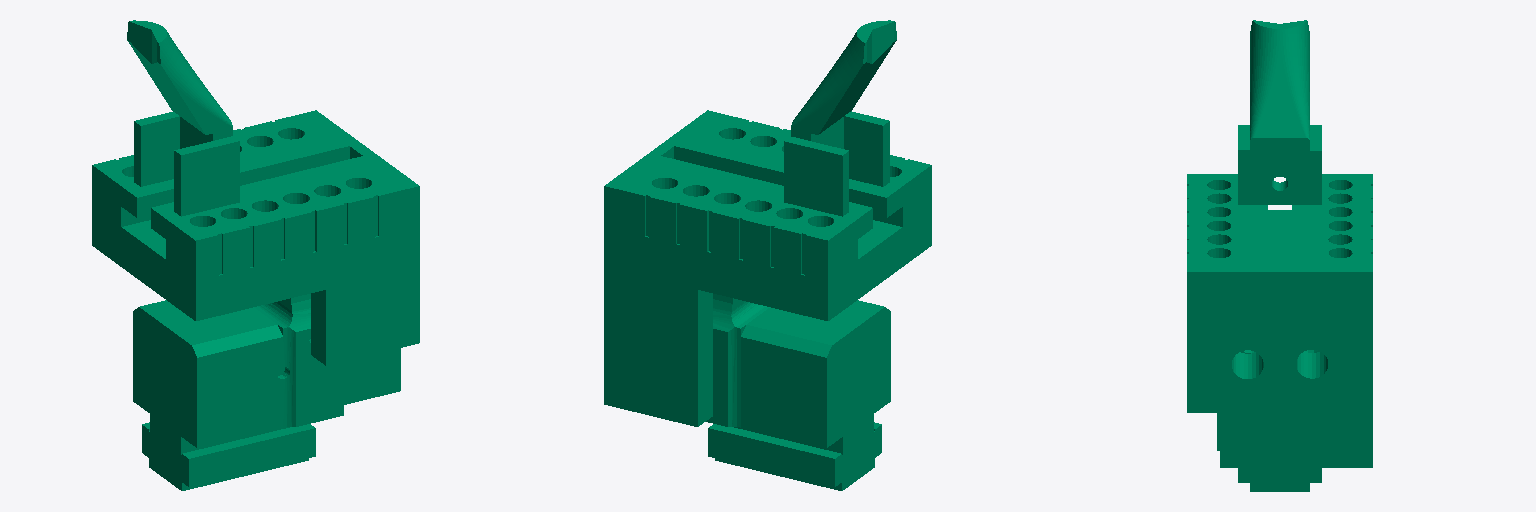
URDF robot description (motoman_sia20d):
<?xml version="1.0" encoding="UTF-8"?>
<!-- =================================================================================== -->
<!-- |    This document was autogenerated by xacro from motoman_only.xacro             | -->
<!-- |    EDITING THIS FILE BY HAND IS NOT RECOMMENDED                                 | -->
<!-- =================================================================================== -->
<robot xmlns:xacro="http://ros.org/wiki/xacro" name="motoman_sia20d">
   <!-- link list -->
   <link name="motoman_base_link">
      <inertial>
         <mass value="150" />
         <inertia ixx="1" ixy="0.0" ixz="0.0" iyy="1" iyz="0.0" izz="1" />
      </inertial>
      <visual>
         <geometry>
            <mesh filename="model://motoman_sia20d_support/meshes/sia20d/visual/MOTOMAN_BASE.stl" />
         </geometry>
         <material name="blue">
            <color rgba="0 0 1 1" />
         </material>
      </visual>
      <collision>
         <geometry>
            <mesh filename="model://motoman_sia20d_support/meshes/sia20d/collision/MOTOMAN_BASE.stl" />
         </geometry>
         <material name="yellow">
            <color rgba="0 1 1 1" />
         </material>
      </collision>
   </link>
   <link name="motoman_link_s">
      <inertial>
         <mass value="34.5" />
         <inertia ixx="0.502079701" ixy="0.0" ixz="0.0" iyy="0.502079701" iyz="0.0" izz="0.12956896" />
      </inertial>
      <visual>
         <origin rpy="0 0 3.1416" xyz="0 0 0" />
         <geometry>
            <mesh filename="model://motoman_sia20d_support/meshes/sia20d/visual/MOTOMAN_AXIS_S.stl" />
         </geometry>
         <material name="silver">
            <color rgba="0.8 0.8 0.8 1" />
         </material>
      </visual>
      <collision>
         <origin rpy="0 0 3.1416" xyz="0 0 0" />
         <geometry>
            <mesh filename="model://motoman_sia20d_support/meshes/sia20d/collision/MOTOMAN_AXIS_S.stl" />
         </geometry>
         <material name="yellow" />
      </collision>
   </link>
   <link name="motoman_link_l">
      <inertial>
         <mass value="30.6" />
         <inertia ixx="0.310135823" ixy="0.0" ixz="0.0" iyy="0.310135823" iyz="0.0" izz="0.12889481" />
      </inertial>
      <visual>
         <origin rpy="1.57 3.1416 3.1416" xyz="0 0 0" />
         <geometry>
            <mesh filename="model://motoman_sia20d_support/meshes/sia20d/visual/MOTOMAN_AXIS_L.stl" />
         </geometry>
         <material name="blue" />
      </visual>
      <collision>
         <origin rpy="1.57 3.1416 3.1416" xyz="0 0 0" />
         <geometry>
            <mesh filename="model://motoman_sia20d_support/meshes/sia20d/collision/MOTOMAN_AXIS_L.stl" />
         </geometry>
         <material name="yellow" />
      </collision>
   </link>
   <link name="motoman_link_e">
      <inertial>
         <mass value="18.54" />
         <inertia ixx="0.147277445" ixy="0.0" ixz="0.0" iyy="0.147277445" iyz="0.0" izz="0.05217123" />
      </inertial>
      <visual>
         <origin rpy="0 0 0" xyz="0 0 0" />
         <geometry>
            <mesh filename="model://motoman_sia20d_support/meshes/sia20d/visual/MOTOMAN_AXIS_E.stl" />
         </geometry>
         <material name="silver" />
      </visual>
      <collision>
         <origin rpy="0 0 0" xyz="0 0 0" />
         <geometry>
            <mesh filename="model://motoman_sia20d_support/meshes/sia20d/collision/MOTOMAN_AXIS_E.stl" />
         </geometry>
         <material name="yellow" />
      </collision>
   </link>
   <link name="motoman_link_u">
      <inertial>
         <mass value="12.9" />
         <inertia ixx="0.086548013" ixy="0.0" ixz="0.0" iyy="0.086548013" iyz="0.0" izz="0.02733095" />
      </inertial>
      <visual>
         <origin rpy="1.57 -3.1415 3.1416" xyz="0 0 0" />
         <geometry>
            <mesh filename="model://motoman_sia20d_support/meshes/sia20d/visual/MOTOMAN_AXIS_U.stl" />
         </geometry>
         <material name="blue" />
      </visual>
      <collision>
         <origin rpy="1.57 -3.1415 3.1416" xyz="0 0 0" />
         <geometry>
            <mesh filename="model://motoman_sia20d_support/meshes/sia20d/collision/MOTOMAN_AXIS_U.stl" />
         </geometry>
         <material name="yellow" />
      </collision>
   </link>
   <link name="motoman_link_r">
      <inertial>
         <mass value="7.3" />
         <inertia ixx="0.034967411" ixy="0.0" ixz="0.0" iyy="0.034967411" iyz="0.0" izz="0.01048203" />
      </inertial>
      <visual>
         <origin rpy="0 0 0" xyz="0 0 0" />
         <geometry>
            <mesh filename="model://motoman_sia20d_support/meshes/sia20d/visual/MOTOMAN_AXIS_R.stl" />
         </geometry>
         <material name="silver" />
      </visual>
      <collision>
         <origin rpy="0 0 0" xyz="0 0 0" />
         <geometry>
            <mesh filename="model://motoman_sia20d_support/meshes/sia20d/collision/MOTOMAN_AXIS_R.stl" />
         </geometry>
         <material name="yellow" />
      </collision>
   </link>
   <link name="motoman_link_b">
      <inertial>
         <mass value="6.6" />
         <inertia ixx="0.028669762" ixy="0.0" ixz="0.0" iyy="0.028669762" iyz="0.0" izz="0.0088123" />
      </inertial>
      <visual>
         <origin rpy="-1.57 0 0" xyz="0 0 0" />
         <geometry>
            <mesh filename="model://motoman_sia20d_support/meshes/sia20d/visual/MOTOMAN_AXIS_B.stl" />
         </geometry>
         <material name="blue" />
      </visual>
      <collision>
         <origin rpy="-1.57 0 0" xyz="0 0 0" />
         <geometry>
            <mesh filename="model://motoman_sia20d_support/meshes/sia20d/collision/MOTOMAN_AXIS_B.stl" />
         </geometry>
         <material name="yellow" />
      </collision>
   </link>
   <link name="motoman_link_t">
      <inertial>
         <mass value="9.36" />
         <inertia ixx="0.026345268" ixy="0.0" ixz="0.0" iyy="0.026345268" iyz="0.0" izz="0.03381399" />
         <pose>0 0 0 0 -0 0</pose>
      </inertial>
      <visual>
         <geometry>
            <mesh filename="model://motoman_sia20d_support/meshes/sia20d/visual/MOTOMAN_AXIS_T.stl" />
         </geometry>
         <material name="silver" />
      </visual>
      <collision>
         <geometry>
            <mesh filename="model://motoman_sia20d_support/meshes/sia20d/collision/MOTOMAN_AXIS_T.stl" />
         </geometry>
         <material name="yellow" />
      </collision>
   </link>
   <gazebo reference="motoman_base_link">
      <static>1</static>
      <gravity>0</gravity>
      <material>Gazebo/White</material>
   </gazebo>
   <gazebo reference="motoman_link_s">
      <static>p</static>
      <gravity>0</gravity>
      <kinematic>1</kinematic>
      <material>Gazebo/Blue</material>
   </gazebo>
   <gazebo reference="motoman_link_l">
      <static>0</static>
      <gravity>0</gravity>
      <kinematic>1</kinematic>
      <material>Gazebo/White</material>
   </gazebo>
   <gazebo reference="motoman_link_e">
      <static>0</static>
      <gravity>0</gravity>
      <kinematic>1</kinematic>
      <material>Gazebo/Blue</material>
   </gazebo>
   <gazebo reference="motoman_link_u">
      <static>0</static>
      <gravity>0</gravity>
      <kinematic>1</kinematic>
      <material>Gazebo/White</material>
   </gazebo>
   <gazebo reference="motoman_link_r">
      <static>0</static>
      <gravity>0</gravity>
      <kinematic>1</kinematic>
      <material>Gazebo/Blue</material>
   </gazebo>
   <gazebo reference="motoman_link_b">
      <static>0</static>
      <gravity>0</gravity>
      <kinematic>1</kinematic>
      <material>Gazebo/White</material>
   </gazebo>
   <gazebo reference="motoman_link_t">
      <static>0</static>
      <gravity>0</gravity>
      <kinematic>1</kinematic>
      <material>Gazebo/Blue</material>
   </gazebo>

   <!-- end of link list -->
   <!-- joint list -->
   <joint name="motoman_joint_s" type="revolute">
      <parent link="motoman_base_link" />
      <child link="motoman_link_s" />
      <origin rpy="0 0 0" xyz="0 0 0.41" />
      <axis xyz="0 0 1" />
      <limit effort="100" lower="-3.1416" upper="3.1416" velocity="2.26" />
   </joint>
   <joint name="motoman_joint_l" type="revolute">
      <parent link="motoman_link_s" />
      <child link="motoman_link_l" />
      <origin rpy="0 0 0" xyz="0 0 0" />
      <axis xyz="0 1 0" />
      <limit effort="100" lower="-1.91" upper="1.91" velocity="2.26" />
   </joint>
   <joint name="motoman_joint_e" type="revolute">
      <parent link="motoman_link_l" />
      <child link="motoman_link_e" />
      <origin rpy="0 0 0" xyz="0 0 0.49" />
      <axis xyz="0 0 1" />
      <limit effort="100" lower="-2.96" upper="2.96" velocity="2.96" />
   </joint>
   <joint name="motoman_joint_u" type="revolute">
      <parent link="motoman_link_e" />
      <child link="motoman_link_u" />
      <origin rpy="0 0 0" xyz="0 0 0" />
      <axis xyz="0 -1 0" />
      <limit effort="100" lower="-2.26" upper="2.26" velocity="2.96" />
   </joint>
   <joint name="motoman_joint_r" type="revolute">
      <parent link="motoman_link_u" />
      <child link="motoman_link_r" />
      <origin rpy="0 0 0" xyz="0 0 0.420" />
      <axis xyz="0 0 -1" />
      <limit effort="100" lower="-3.1416" upper="3.1416" velocity="3.48" />
   </joint>
   <joint name="motoman_joint_b" type="revolute">
      <parent link="motoman_link_r" />
      <child link="motoman_link_b" />
      <origin rpy="0 0 0" xyz="0 0 0" />
      <axis xyz="0 -1 0" />
      <limit effort="100" lower="-1.91" upper="1.91" velocity="3.48" />
   </joint>
   <joint name="motoman_joint_t" type="revolute">
      <parent link="motoman_link_b" />
      <child link="motoman_link_t" />
      <origin rpy="0 0 0" xyz="0 0 0.18" />
      <axis xyz="0 0 -1" />
      <limit effort="100" lower="-3.1416" upper="3.1416" velocity="6.97" />
   </joint>
   <!-- end of joint list -->
  
   <link name="world" />
   <!-- Dummy Link -->
   <link name="link0" />
   <joint name="world_joint" type="fixed">
      <parent link="world" />
      <child link="link0" />
      <origin rpy="0 0 0" xyz="0 0 0" />
      <axis xyz="0 0 1" />
   </joint>
   <!-- Second Robot -->
   <joint name="motoman_joint_0" type="fixed">
      <parent link="link0" />
      <child link="motoman_base_link" />
      <origin rpy="0 0 0" xyz="0 0 0" />
   </joint>


  <!-- gripper -->
  <link name="motoman_finger_1">
    <inertial>
      <mass value=".1"/>
      <origin rpy="0 0 0" xyz="0 0 0"/>
      <inertia ixx="0.1" ixy="0" ixz="0" iyy="0.1" iyz="0" izz="0.1"/>
    </inertial>
    <collision name="motoman_right_finger_collision">
      <origin rpy="0 0 0" xyz="0 0 0"/>
      <geometry>
        <mesh filename="model://motoman_sia20d_support/meshes/sia20d/visual/motoman_finger_1.STL" scale="1 1 1"/>
      </geometry>
    </collision>
    <visual name="motoman_right_finger_visual">
      <origin rpy="0 0 0" xyz="0 0 0"/>
      <geometry>
        <mesh filename="model://motoman_sia20d_support/meshes/sia20d/collision/motoman_finger_1.STL" scale="1 1 1"/>
      </geometry>
    </visual>
  </link>
  <link name="motoman_finger_2">
    <inertial>
      <mass value=".1"/>
      <origin rpy="0 0 0" xyz="0 0 0"/>
      <inertia ixx="0.001" ixy="0" ixz="0" iyy="0.001" iyz="0" izz="0.001"/>
    </inertial>
    <collision name="motoman_left_finger_collision">
      <origin rpy="0 0 0" xyz="0 0 0"/>
      <geometry>
        <mesh filename="model://motoman_sia20d_support/meshes/sia20d/collision/motoman_finger_2.STL" scale="1 1 1"/>
      </geometry>
    </collision>
    <visual name="motoman_left_finger_visual">
      <origin rpy="0 0 0" xyz="0 0 0"/>
      <geometry>
        <mesh filename="model://motoman_sia20d_support/meshes/sia20d/visual/motoman_finger_2.STL" scale="1 1 1"/>
      </geometry>
    </visual>
  </link>
  <joint name="motoman_prism1" type="prismatic">
    <parent link="motoman_link_t"/>
    <child link="motoman_finger_1"/>
    <origin rpy="1.5708 0     0" xyz="0     0     0.00821"/>
    <axis xyz="-1  0  0"/>
    <limit effort="100.0" lower="-0.02" upper="0.0" velocity="10.0"/>
  </joint>
  <joint name="motoman_prism2" type="prismatic">
    <parent link="motoman_link_t"/>
    <child link="motoman_finger_2"/>
    <origin rpy="1.5708   0      -3.14159" xyz="0     0     0.00821"/>
    <axis xyz="-1  0  0"/>
    <limit effort="1000.0" lower="-0.02" upper="0.0" velocity="10.0"/>
  </joint>
  <gazebo reference="motoman_finger_1">
    <material>Gazebo/White</material>
    <turnGravityOff>true</turnGravityOff>
  </gazebo>
  <gazebo reference="motoman_finger_2">
    <material>Gazebo/White</material>
    <turnGravityOff>true</turnGravityOff>
  </gazebo>


</robot>

--- What the picture shows (computed from the rendered views, not written in the file) ---
Views: 3 orthographic renders of the robot side by side, from view 1: azimuth 30°, elevation 25°; view 2: azimuth 150°, elevation 25°; view 3: azimuth 270°, elevation 25°.
Model motoman_sia20d with 12 links and 11 joints (7 revolute, 2 prismatic, 2 fixed), rooted at world, posed every joint at zero.
Links seen in each view (by area): view 1: motoman_finger_1; view 2: motoman_finger_1; view 3: motoman_finger_1.
Link boxes in pixels (left/top/right/bottom): motoman_finger_1: left=92, top=20, right=419, bottom=490; motoman_finger_1: left=604, top=20, right=931, bottom=490; motoman_finger_1: left=1187, top=20, right=1372, bottom=491.
Size in the robot's own frame: 0.0575 by 0.046 by 0.111 metres.
Meshes: 10 distinct files referenced, 1 mesh visuals loaded (1 binary STL); not drawn: 9 (reference not matched to a file when rendering).